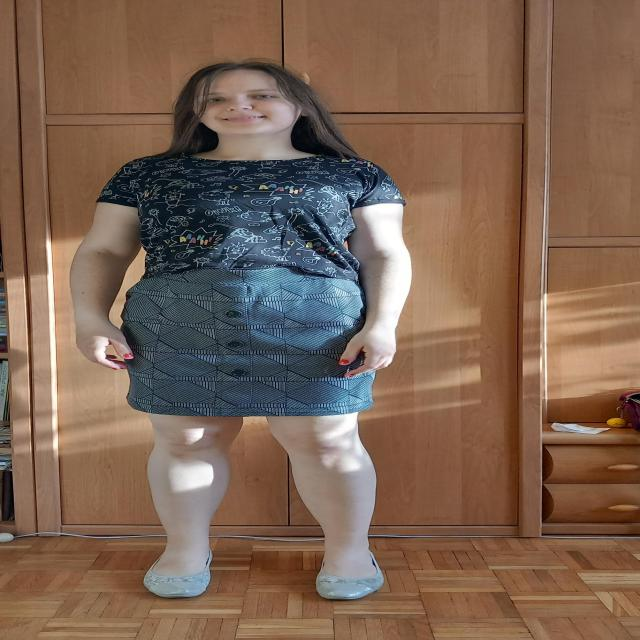Tshirt: (95, 149, 407, 280)
skirt: (120, 268, 389, 417)
